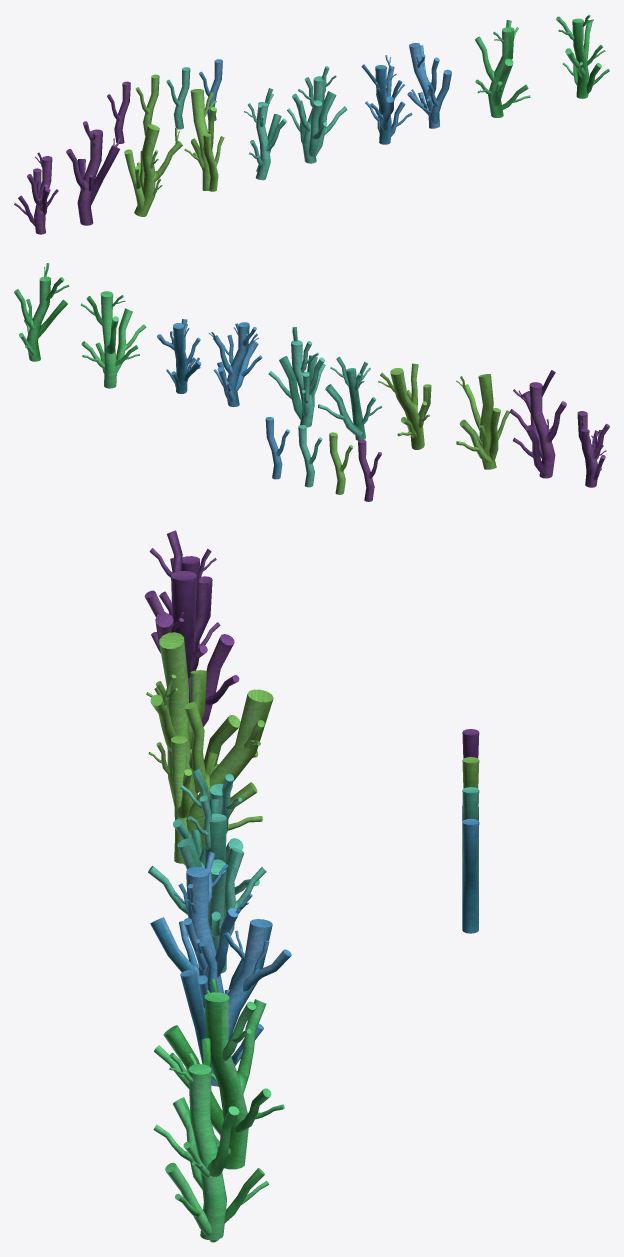
Rendered from Corals.fbx.
The picture shows the model from 3 angles, top to bottom: view 1: azimuth 30°, elevation 25°; view 2: azimuth 150°, elevation 25°; view 3: azimuth 270°, elevation 25°; orthographic projection. The views are drawn at different scales.
Parts seen in each view (by area): view 1: Roze_1, Groen_2_2, Groen_2_4, Oranje_1, Oranje_2_2, Geel_2_4, Turqoise_1, Geel_1, Turqoise_1_2, Roze_2_3, Roze, Turqoise (+10 smaller); view 2: Roze_1, Groen_2_4, Oranje_1, Groen_2_2, Oranje_2_2, Geel_1, Turqoise_1_2, Geel_2_4, Turqoise_4_2, Turqoise_1, Groen, Roze_2_3 (+11 smaller); view 3: Oranje_1, Oranje_2_2, Groen_2_4, Groen_2_2, Geel_2_4, Geel_1, Geel, Roze_1, Groen_1_3, Oranje_2, Roze_6, Geel_2 (+7 smaller).
Boxes of the visible parts, x1=… form: Roze_1: x1=66, y1=129, x2=102, y2=225; Groen_2_2: x1=134, y1=124, x2=182, y2=216; Groen_2_4: x1=190, y1=89, x2=216, y2=190; Oranje_1: x1=475, y1=27, x2=514, y2=117; Oranje_2_2: x1=572, y1=18, x2=592, y2=98; Geel_2_4: x1=409, y1=43, x2=439, y2=128; Turqoise_1: x1=255, y1=102, x2=286, y2=180; Geel_1: x1=375, y1=65, x2=394, y2=144; Turqoise_1_2: x1=292, y1=76, x2=324, y2=163; Roze_2_3: x1=27, y1=156, x2=52, y2=234; Roze: x1=107, y1=81, x2=130, y2=143; Turqoise: x1=166, y1=67, x2=190, y2=129; Roze_1: x1=529, y1=382, x2=566, y2=478; Groen_2_4: x1=390, y1=363, x2=424, y2=449; Oranje_1: x1=100, y1=291, x2=118, y2=388; Groen_2_2: x1=462, y1=374, x2=496, y2=469; Oranje_2_2: x1=14, y1=276, x2=50, y2=361; Geel_1: x1=213, y1=322, x2=249, y2=406; Turqoise_1_2: x1=291, y1=340, x2=324, y2=427; Geel_2_4: x1=173, y1=319, x2=187, y2=393; Turqoise_4_2: x1=268, y1=356, x2=302, y2=420; Turqoise_1: x1=346, y1=368, x2=365, y2=440; Groen: x1=329, y1=432, x2=353, y2=494; Roze_2_3: x1=577, y1=411, x2=609, y2=487; Oranje_1: x1=204, y1=992, x2=266, y2=1169; Oranje_2_2: x1=188, y1=1064, x2=239, y2=1240; Groen_2_4: x1=183, y1=689, x2=273, y2=864; Groen_2_2: x1=150, y1=632, x2=197, y2=809; Geel_2_4: x1=199, y1=919, x2=272, y2=1086; Geel_1: x1=186, y1=866, x2=238, y2=996; Geel: x1=462, y1=818, x2=479, y2=933; Roze_1: x1=171, y1=571, x2=196, y2=667; Groen_1_3: x1=171, y1=736, x2=192, y2=863; Oranje_2: x1=154, y1=1025, x2=223, y2=1135; Roze_6: x1=201, y1=634, x2=239, y2=726; Geel_2: x1=150, y1=917, x2=201, y2=995.
Size of the model in its own units: 3127 by 564 by 773.
Materials: 5 (5 with a texture image).
